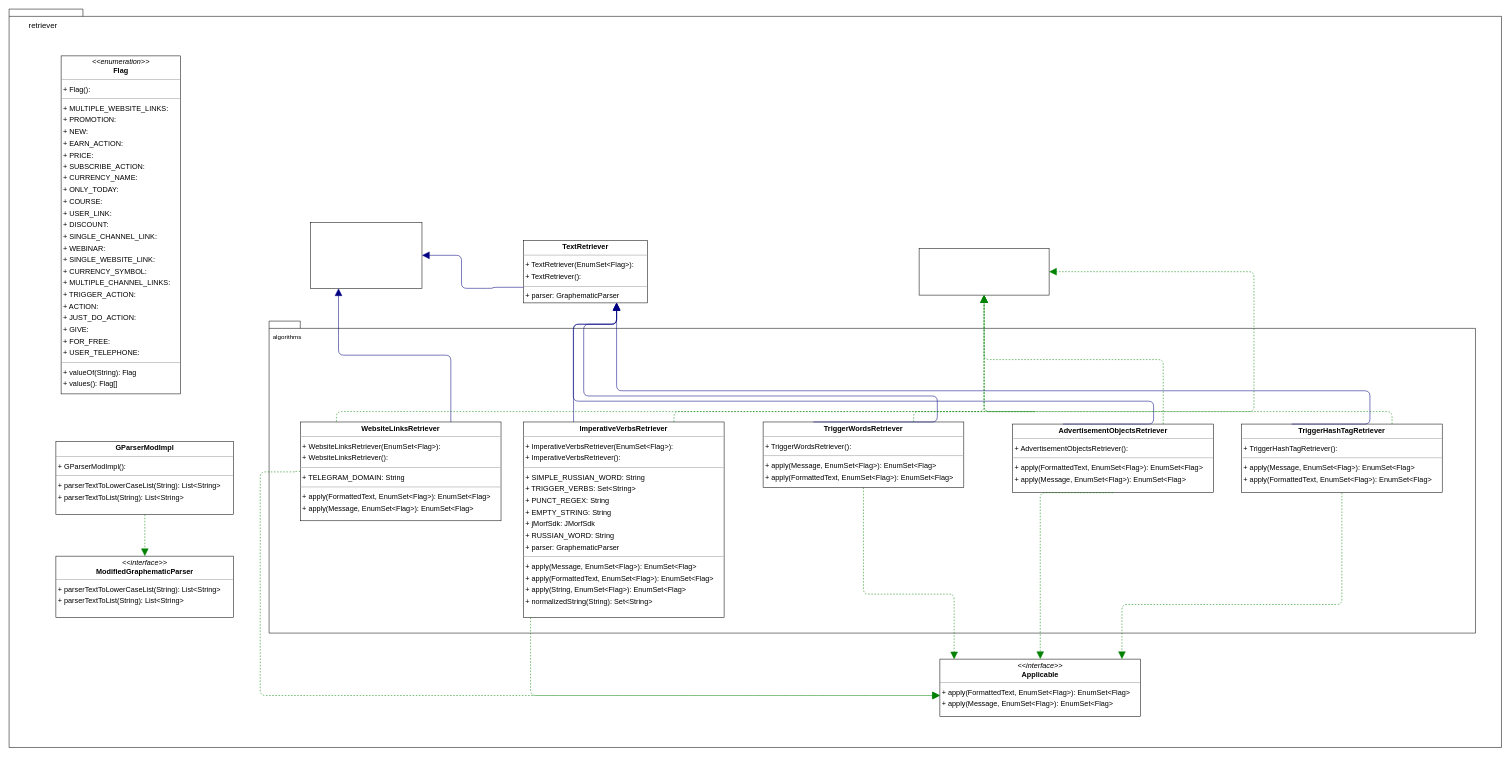
Image size: 1511x757. Some labels were removed from this diagram. The centre of each missing label's shape, as x and y in pixels:
"<<interface>> TgTextContentRetrievable + retrieve(Message): FormattedText" belongs at (984,271).
"Retriever + Retriever(EnumSet<Flag>): + Retriever(): + flags: EnumSet<Flag>" belongs at (366,255).
